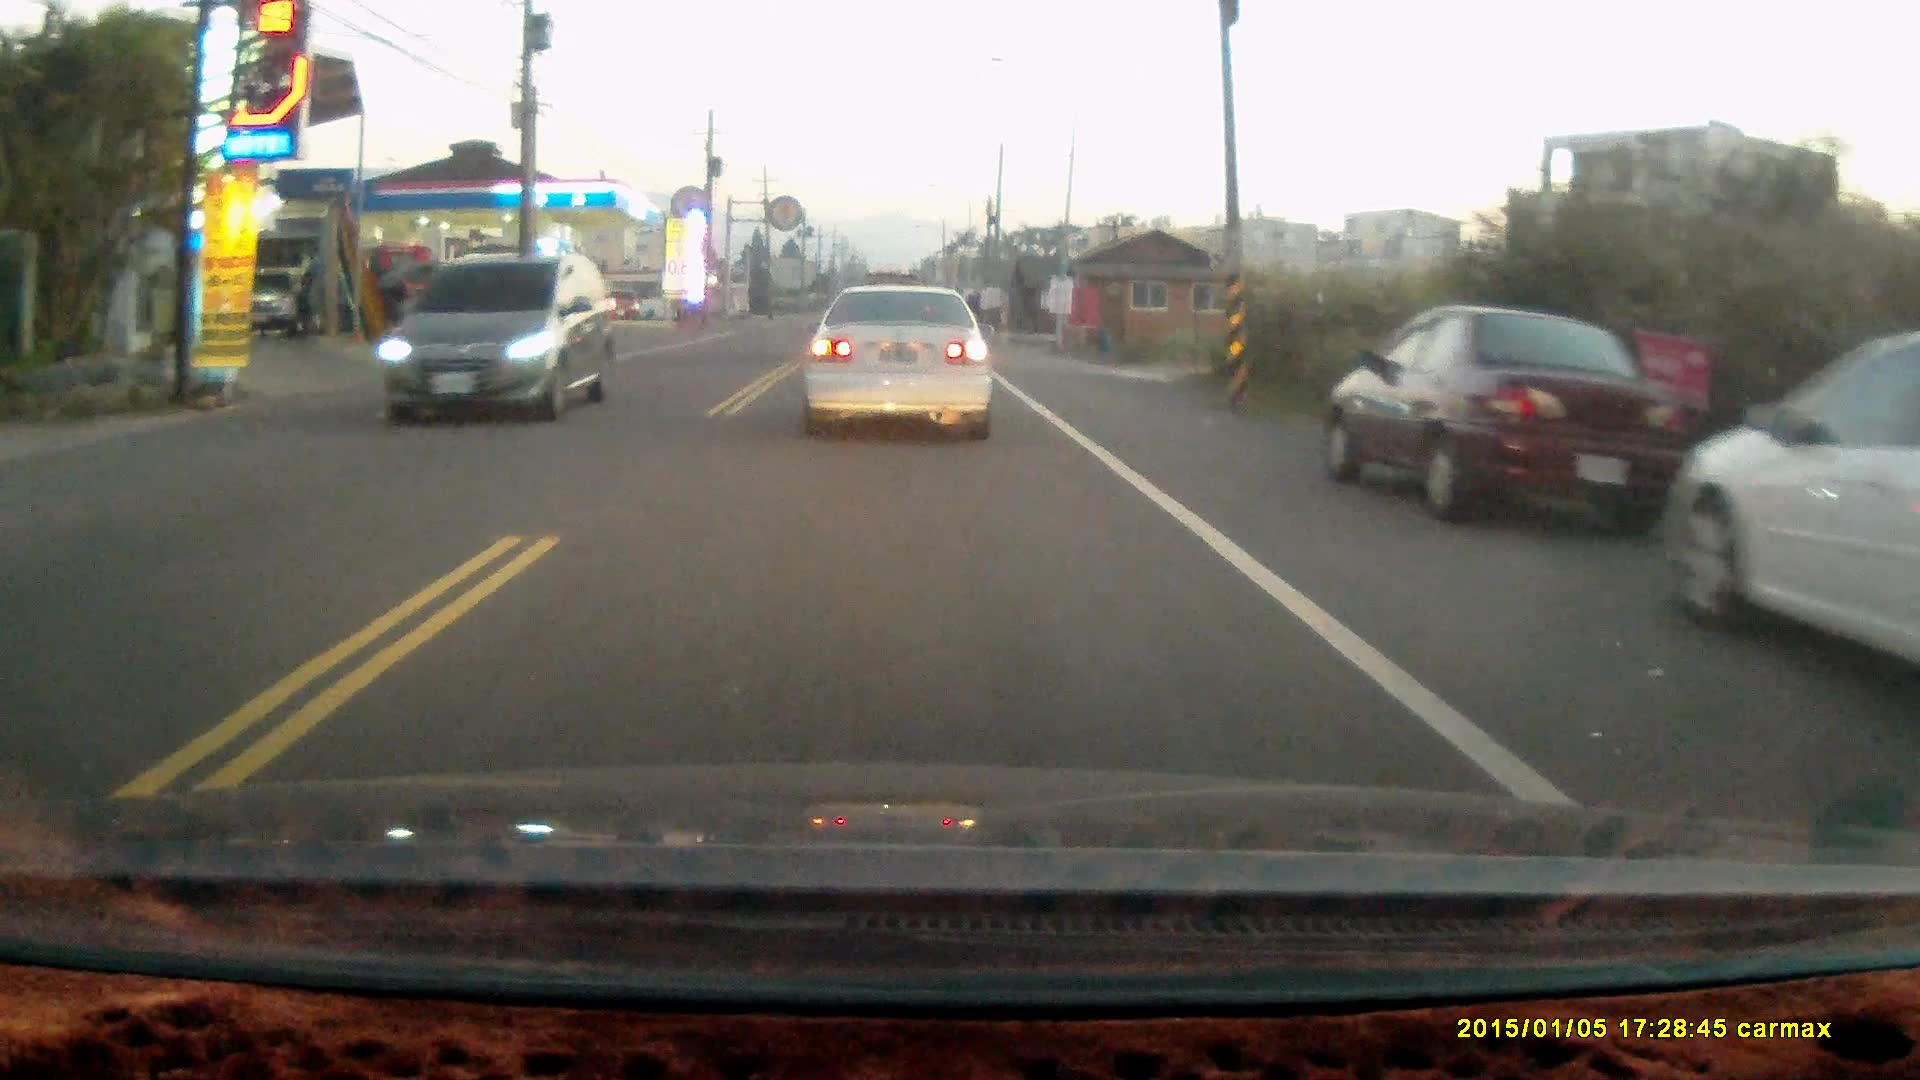vehicle: (1662, 324, 1920, 686), (1324, 303, 1709, 524), (382, 255, 616, 421), (796, 282, 996, 444)
